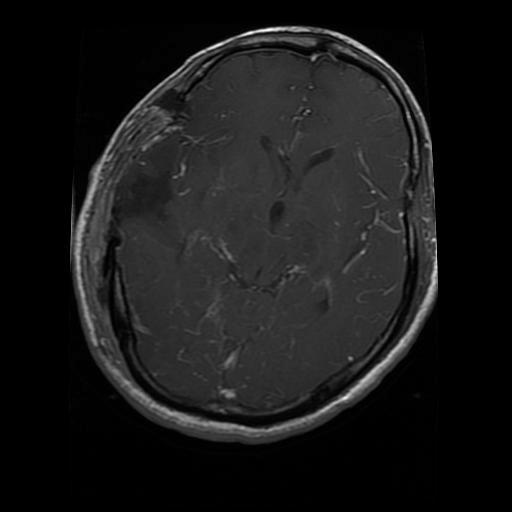Tumour-Glioma: (98, 135, 198, 242)
